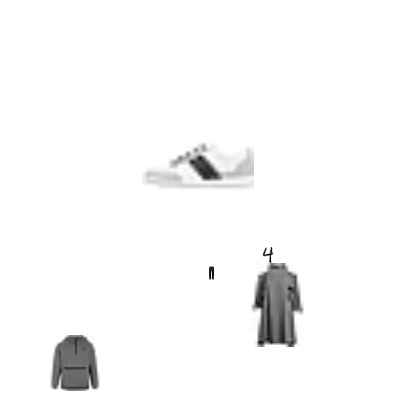4: (257, 243, 279, 265)
Dress: (234, 263, 318, 347)
Pullover: (47, 335, 103, 391)
Sneaker: (142, 108, 254, 220)
Trouser: (204, 266, 218, 280)
